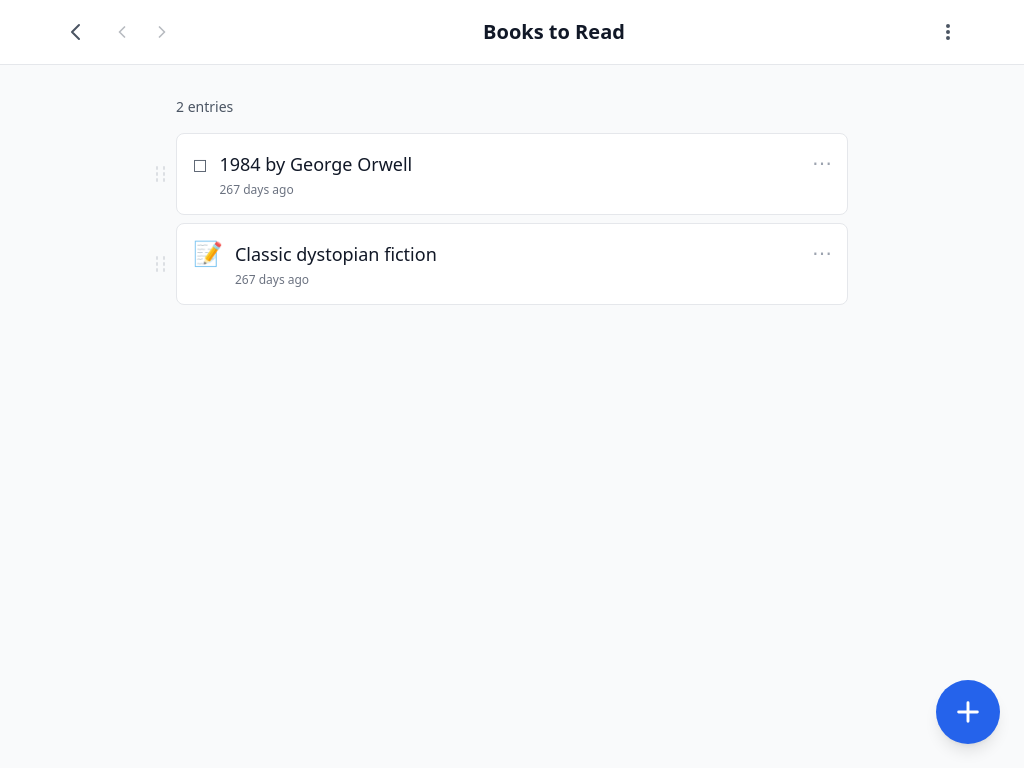
Test: CollectionDetailView › should open entry input modal when FAB is clicked
Check: the link "Books to Read" is shown, box [483,18,625,45]
Step 1. Click the button named "add new entry" → (968, 712), box [936,680,1000,744]
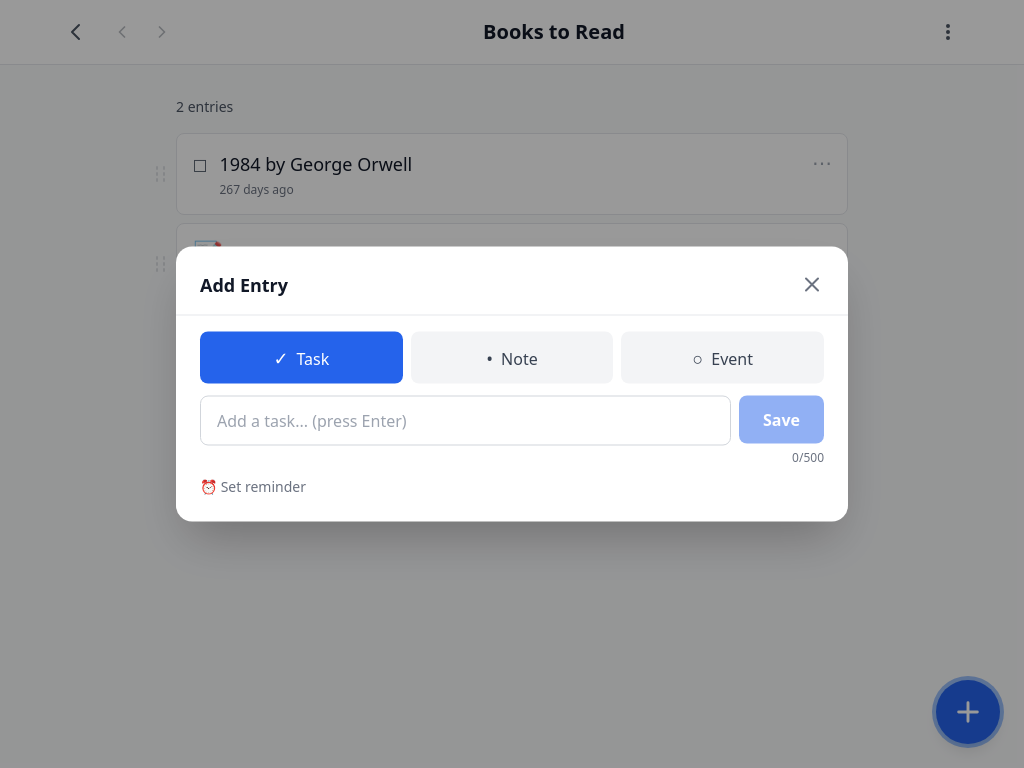
Check: the heading "Add Entry" is shown, box [200,270,288,298]
